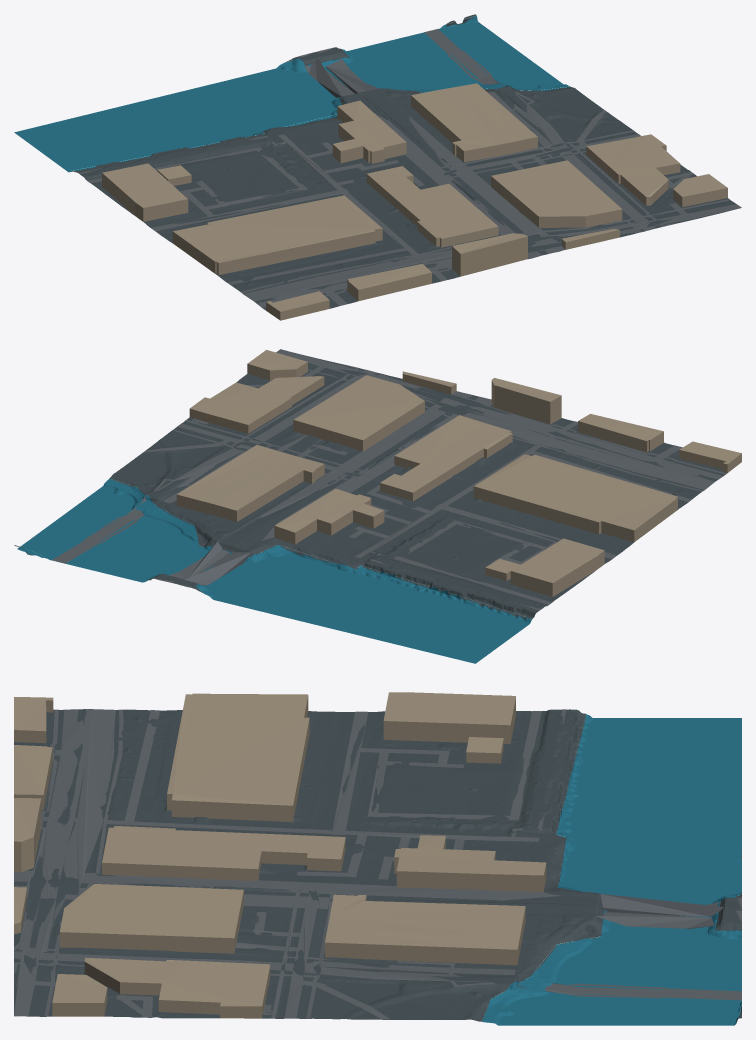
File: epsg26910-1442-10880.lod0.glb
3 renders of one model, top to bottom at view 1: azimuth 30°, elevation 25°; view 2: azimuth 150°, elevation 25°; view 3: azimuth 270°, elevation 25°, orthographic. The views are drawn at different scales.
Parts seen in each view (by area): view 1: epsg26910-1442-10880-lod0; view 2: epsg26910-1442-10880-lod0; view 3: epsg26910-1442-10880-lod0.
Part boxes in pixels (x1,y1,x2,y2): epsg26910-1442-10880-lod0: (14,14,741,320); epsg26910-1442-10880-lod0: (14,349,741,663); epsg26910-1442-10880-lod0: (14,692,741,1025).
Bounding box in the file's own units: 384 × 24.42 × 384.
